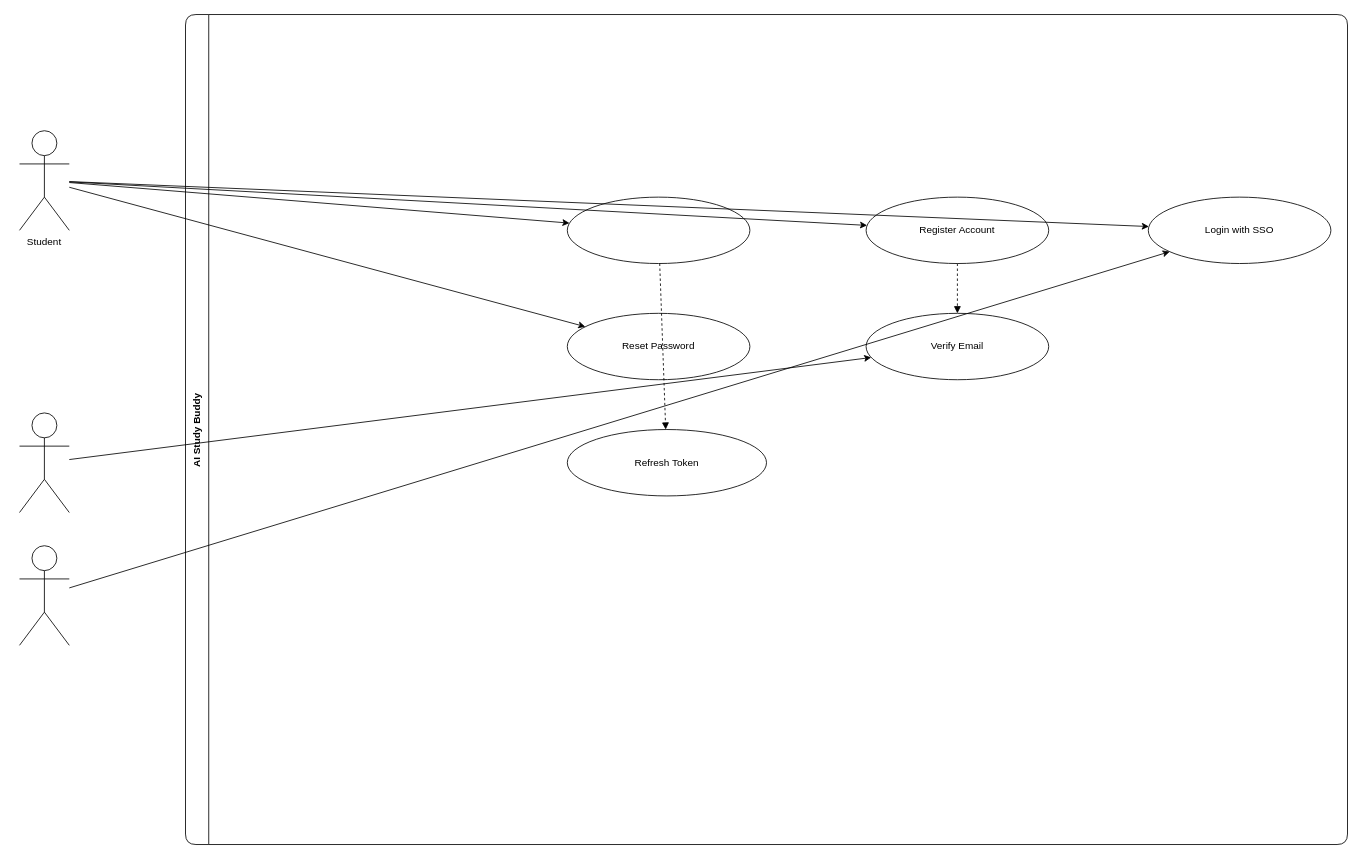
Image size: 1363x859. Some labels were removed from this diagram. Here are the shapes that lost their labels. From the top down, the centre of each, then its label:
At (x=658, y=230): "Log In".
At (x=44, y=462): "Email Service".
At (x=44, y=595): "SSO Provider".
